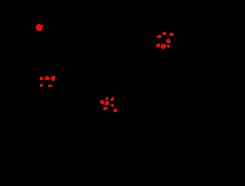Target: (36, 24, 43, 31), (161, 44, 166, 49), (166, 39, 171, 43), (45, 76, 50, 80), (51, 76, 55, 81), (156, 43, 160, 47), (100, 100, 104, 104), (105, 101, 109, 105), (169, 33, 174, 36), (103, 107, 108, 110), (162, 32, 166, 35), (157, 35, 161, 38), (111, 97, 114, 101), (113, 109, 117, 112), (167, 45, 170, 48), (40, 77, 43, 80), (40, 84, 43, 87), (111, 104, 114, 107), (48, 85, 52, 87), (106, 97, 108, 100)
